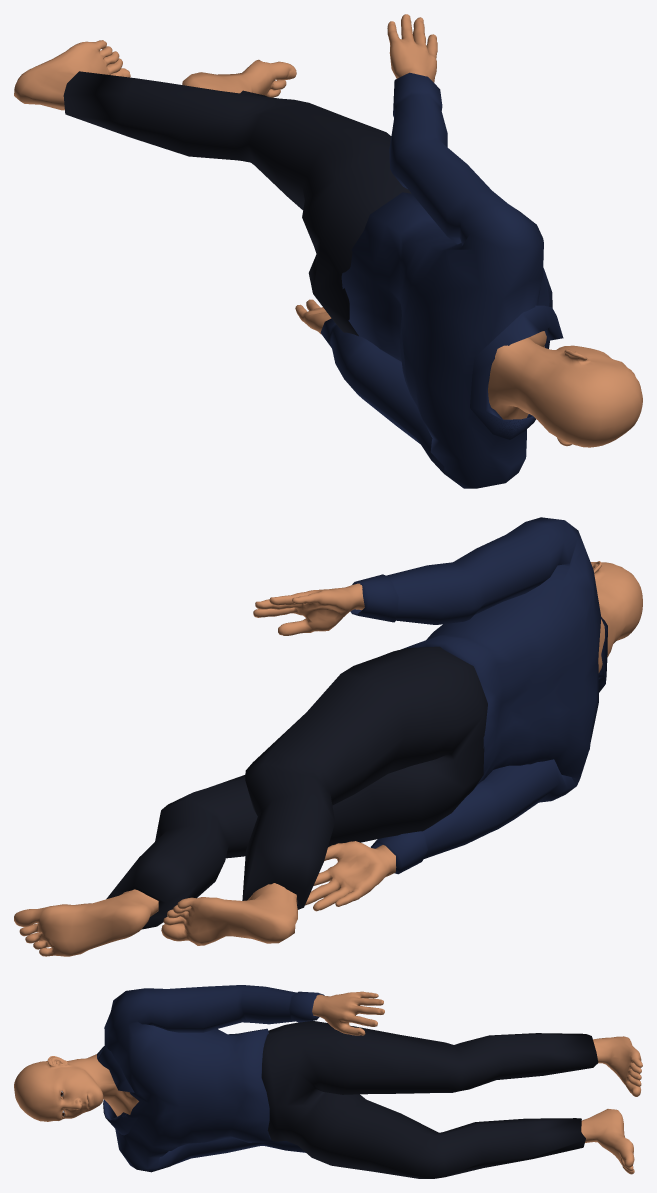
Rendered from walk.obj.
The picture shows the model from 3 angles, top to bottom: view 1: azimuth 30°, elevation 25°; view 2: azimuth 150°, elevation 25°; view 3: azimuth 270°, elevation 25°; orthographic projection. The views are drawn at different scales.
Size of the model in its own units: 0.5661 by 0.5935 by 1.68.
